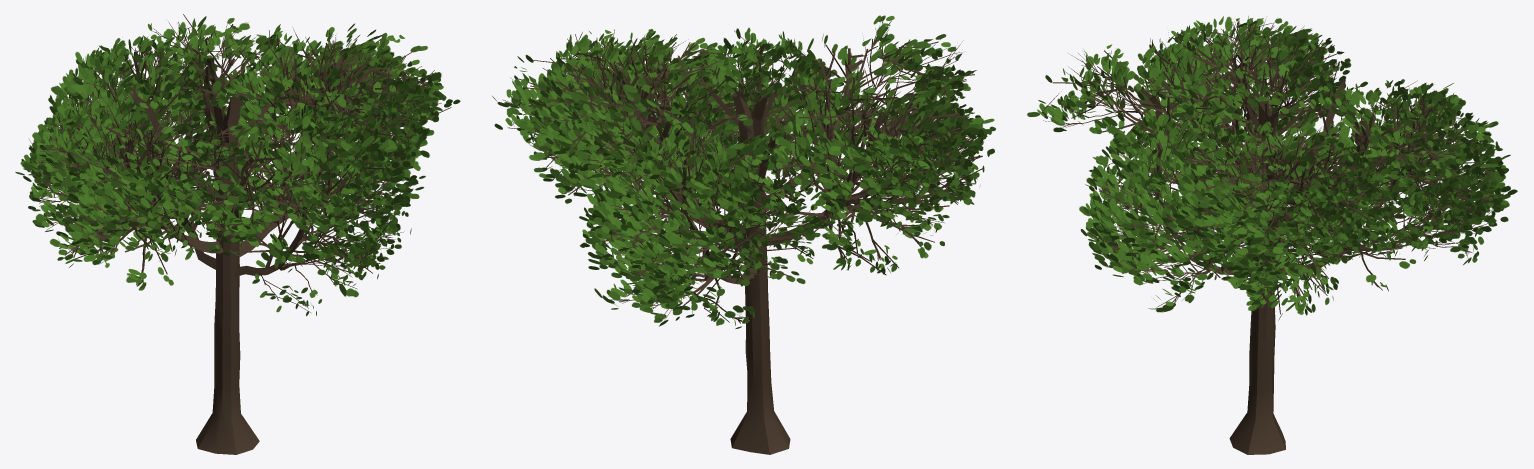
3 renders of one model, left to right at view 1: azimuth 30°, elevation 25°; view 2: azimuth 150°, elevation 25°; view 3: azimuth 270°, elevation 25°, orthographic. The views are drawn at different scales.
Visible parts, largest first — view 1: oak 01.001_trunk_Mat.001_0.101; view 2: oak 01.001_trunk_Mat.001_0.101; view 3: oak 01.001_trunk_Mat.001_0.101.
Boxes of the visible parts, <box> form: oak 01.001_trunk_Mat.001_0.101: <box>15,14,460,454</box>; oak 01.001_trunk_Mat.001_0.101: <box>492,15,995,454</box>; oak 01.001_trunk_Mat.001_0.101: <box>1027,16,1517,454</box>.
Size of the model in its own units: 6.08 by 4.85 by 6.13.
2 materials, 1 textured.
